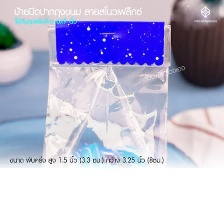snack: (34, 13, 178, 167)
